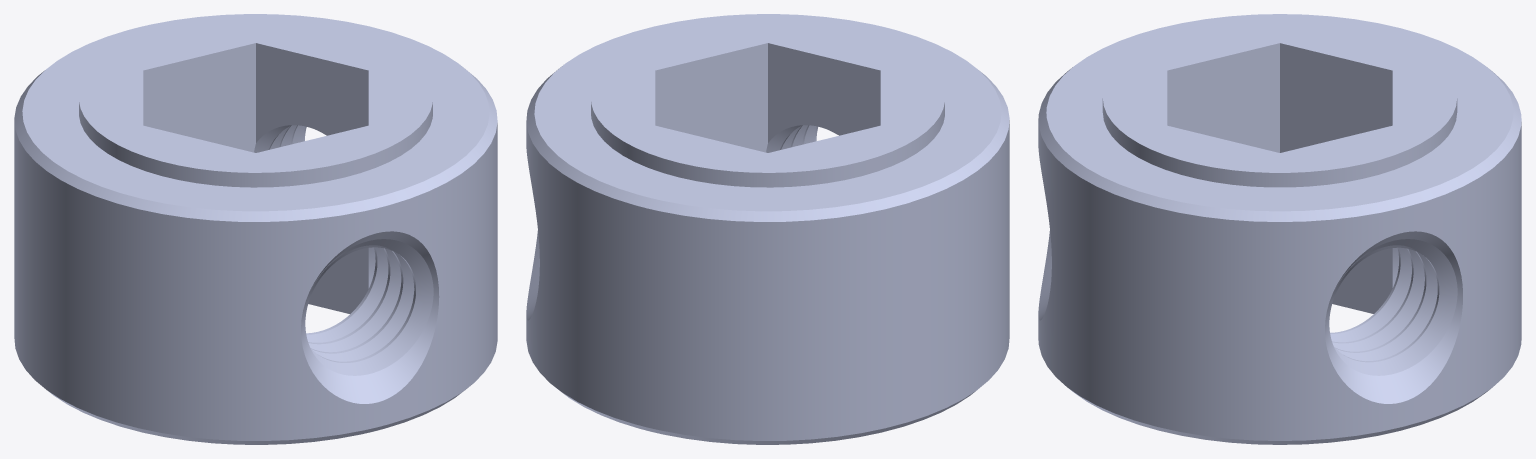
File: _2920_0001_4008_assembly_STEP_1_2920_0001_4008_STEP_1_solid1.obj
3 views of the same model, side by side, from view 1: azimuth 30°, elevation 25°; view 2: azimuth 150°, elevation 25°; view 3: azimuth 270°, elevation 25° (orthographic).
Parts seen in each view (by area): view 1: mesh28499, mesh28492, mesh28489, mesh28498, mesh28458, mesh28524, mesh28470, mesh28494, mesh28490, mesh28505, mesh28460, mesh28493 (+4 smaller); view 2: mesh28499, mesh28492, mesh28498, mesh28489, mesh28530, mesh28506, mesh28494, mesh28490, mesh28493, mesh28491, mesh28496, mesh28526 (+1 smaller); view 3: mesh28498, mesh28492, mesh28489, mesh28459, mesh28481, mesh28500, mesh28493, mesh28491, mesh28485, mesh28486, mesh28497, mesh28505.
Part boxes in pixels (x1,y1,x2,y2): mesh28499: (14, 120, 376, 440); mesh28492: (22, 14, 489, 211); mesh28489: (79, 23, 432, 172); mesh28498: (377, 123, 497, 427); mesh28458: (143, 43, 255, 152); mesh28524: (306, 239, 433, 375); mesh28470: (256, 43, 368, 142); mesh28494: (14, 70, 376, 221); mesh28490: (79, 102, 344, 187); mesh28505: (301, 267, 421, 403); mesh28460: (308, 248, 368, 313); mesh28493: (373, 67, 497, 208); mesh28499: (647, 120, 1009, 440); mesh28492: (534, 14, 1001, 211); mesh28498: (526, 122, 647, 427); mesh28489: (591, 23, 944, 172); mesh28530: (655, 43, 767, 152); mesh28506: (768, 43, 880, 142); mesh28494: (647, 70, 1009, 221); mesh28490: (679, 102, 944, 187); mesh28493: (526, 67, 650, 208); mesh28491: (591, 102, 679, 177); mesh28496: (648, 391, 975, 444); mesh28526: (766, 125, 816, 152); mesh28498: (1038, 122, 1521, 440); mesh28492: (1046, 14, 1513, 211); mesh28489: (1103, 23, 1456, 172); mesh28459: (1280, 43, 1392, 313); mesh28481: (1330, 239, 1457, 375); mesh28500: (1167, 43, 1279, 152); mesh28493: (1038, 113, 1521, 221); mesh28491: (1102, 98, 1457, 187); mesh28485: (1325, 267, 1445, 403); mesh28486: (1349, 231, 1462, 364); mesh28497: (1069, 389, 1490, 444); mesh28505: (1038, 231, 1051, 320).
Bounding box in the file's own units: 0.015 × 0.0085 × 0.015.
